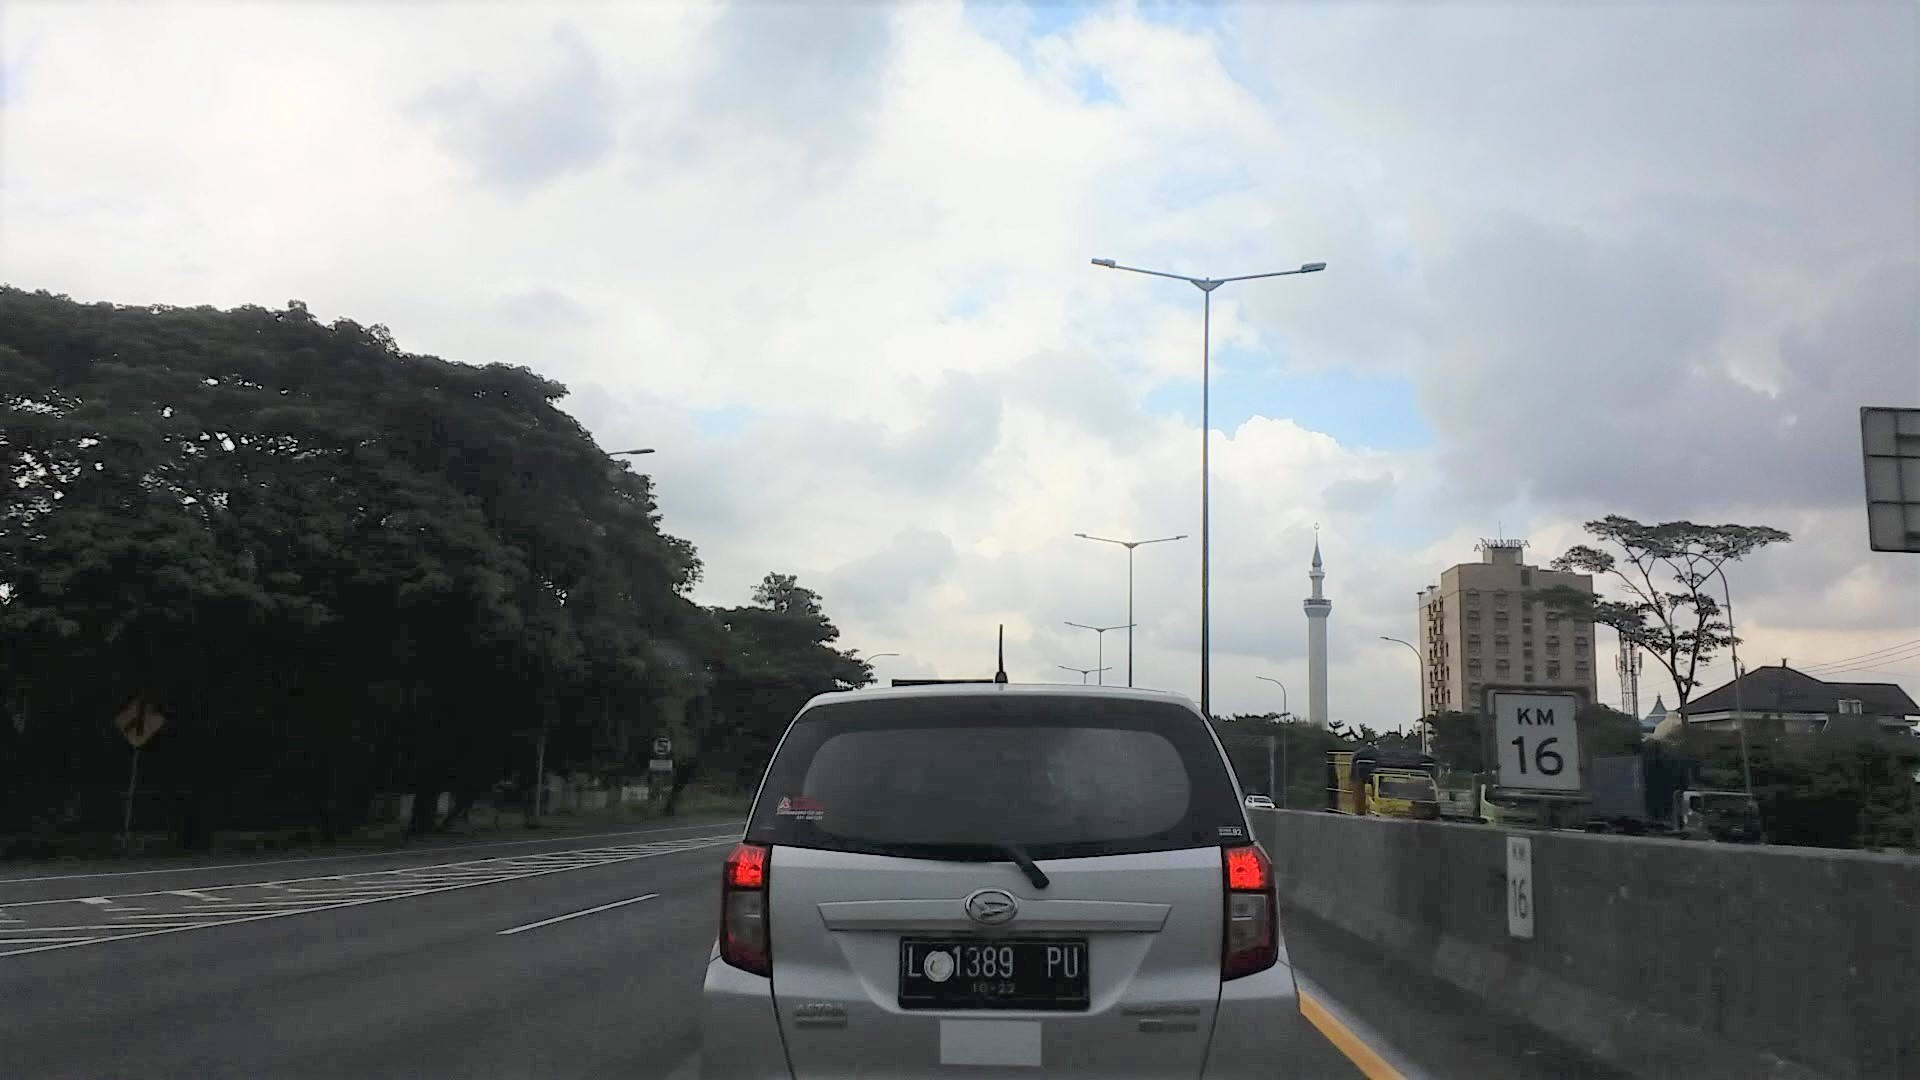plate_positive: (898, 934, 1092, 1011)
